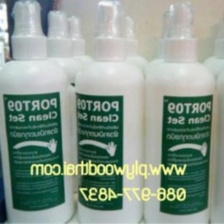cleaning_solution: (137, 0, 218, 224), (0, 0, 77, 224), (69, 3, 147, 223)
